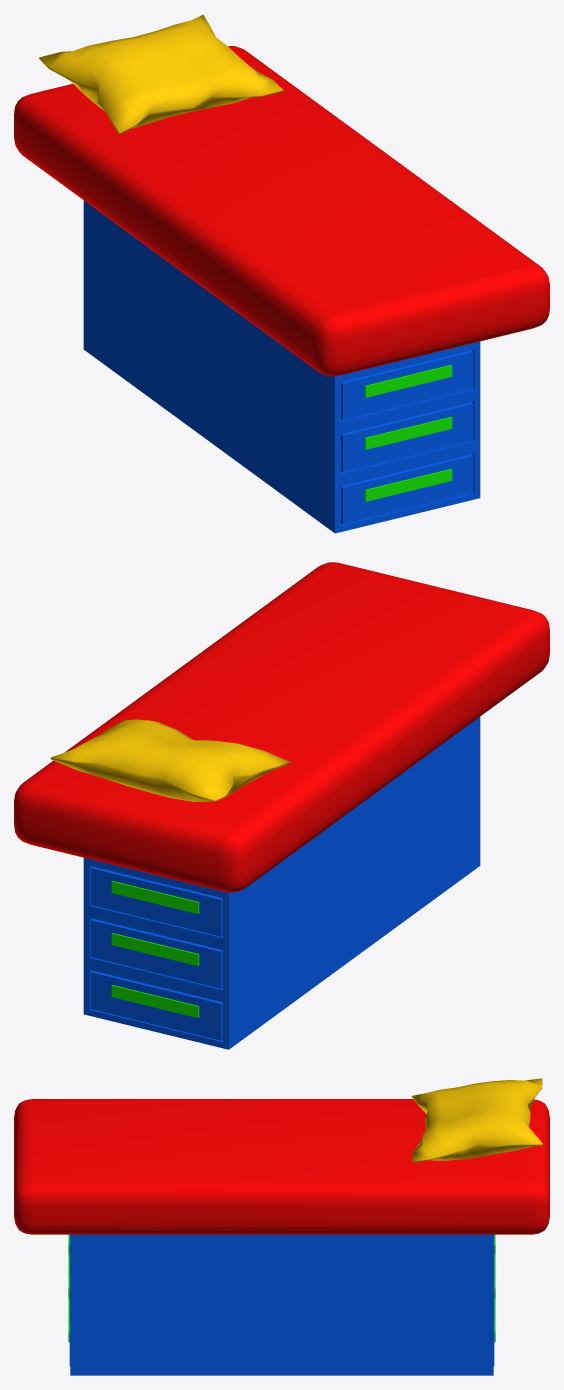
Rendered from Cama123.FBX.
3 views of the same model, one above another, from view 1: azimuth 30°, elevation 25°; view 2: azimuth 150°, elevation 25°; view 3: azimuth 270°, elevation 25° (orthographic). The views are drawn at different scales.
Visible parts, largest first — view 1: Object002, hospital_fnt_cama2, Object001; view 2: Object002, hospital_fnt_cama2, Object001; view 3: Object002, hospital_fnt_cama2, Object001.
Boxes of the visible parts, <box> form: Object002: <box>14,46,549,376</box>; hospital_fnt_cama2: <box>83,200,480,533</box>; Object001: <box>39,14,283,134</box>; Object002: <box>14,562,549,892</box>; hospital_fnt_cama2: <box>83,717,480,1049</box>; Object001: <box>50,719,290,801</box>; Object002: <box>14,1099,549,1234</box>; hospital_fnt_cama2: <box>68,1234,495,1375</box>; Object001: <box>411,1078,542,1162</box>.
Size of the model in its own units: 80 by 95.65 by 190.
